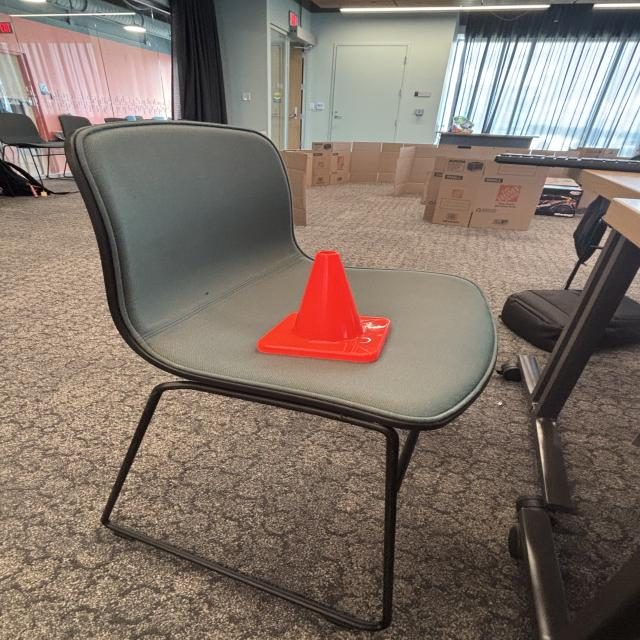Traffic Cone: (255, 246, 395, 368)
